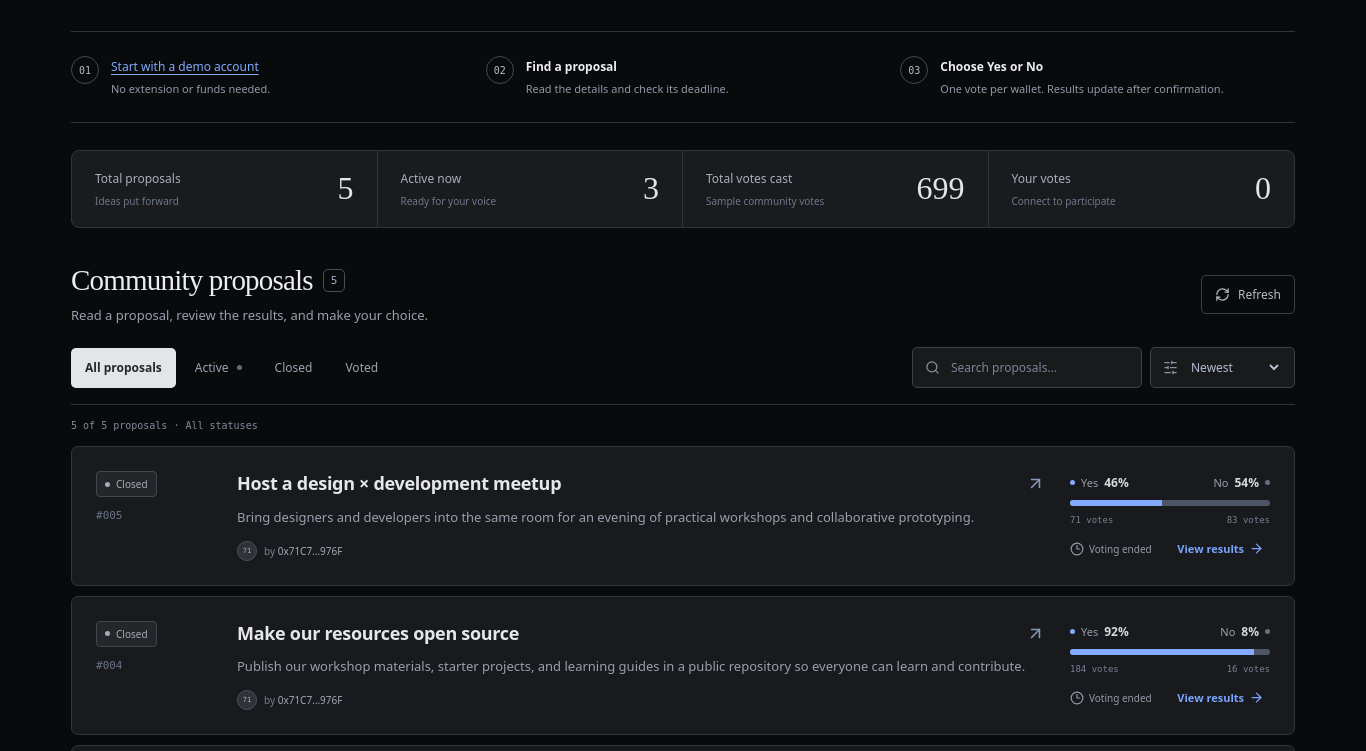
Scenario: dVote user flows › searches, filters closed proposals, and displays final results
(page scrolled)
In the field labelled "Search proposals": point(1039, 368) [949,358,1129,377], type "open source"
(page scrolled)
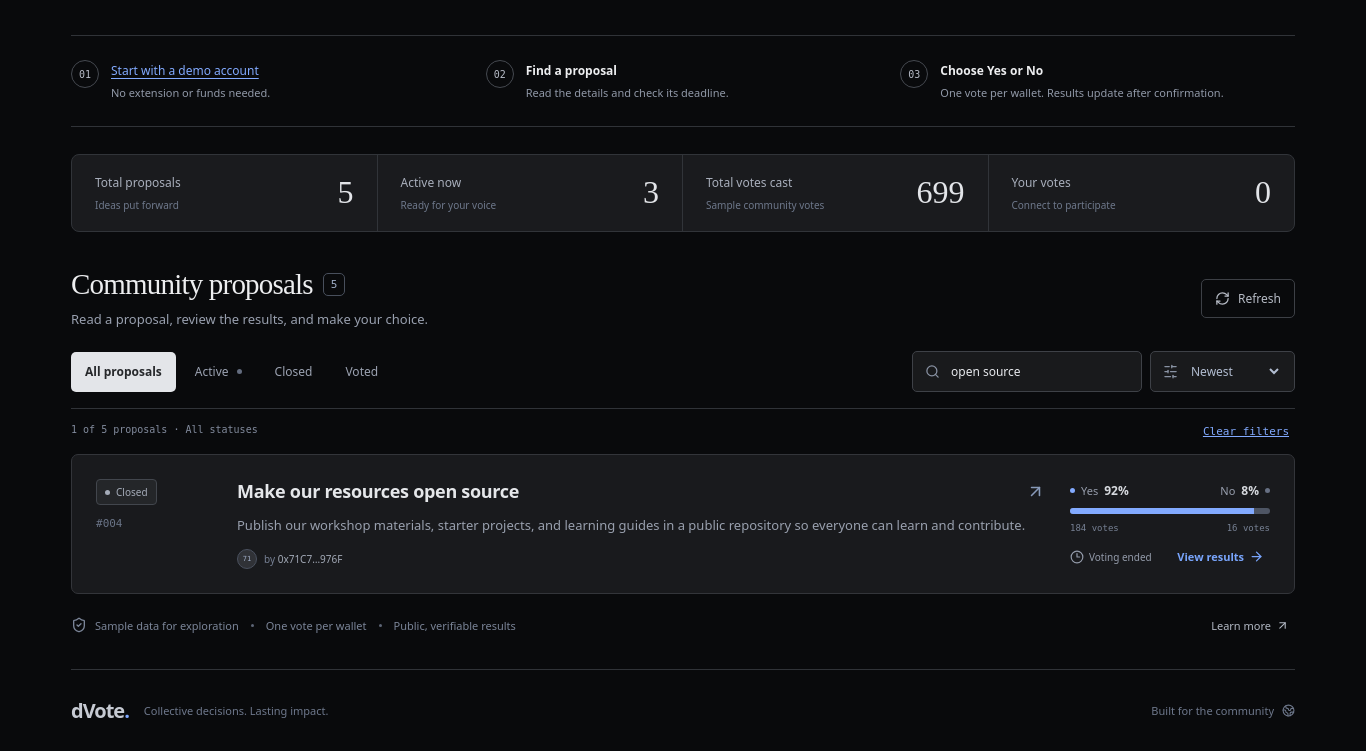
Click the button "Make our resources open source": point(378, 491) [237,479,1045,505]
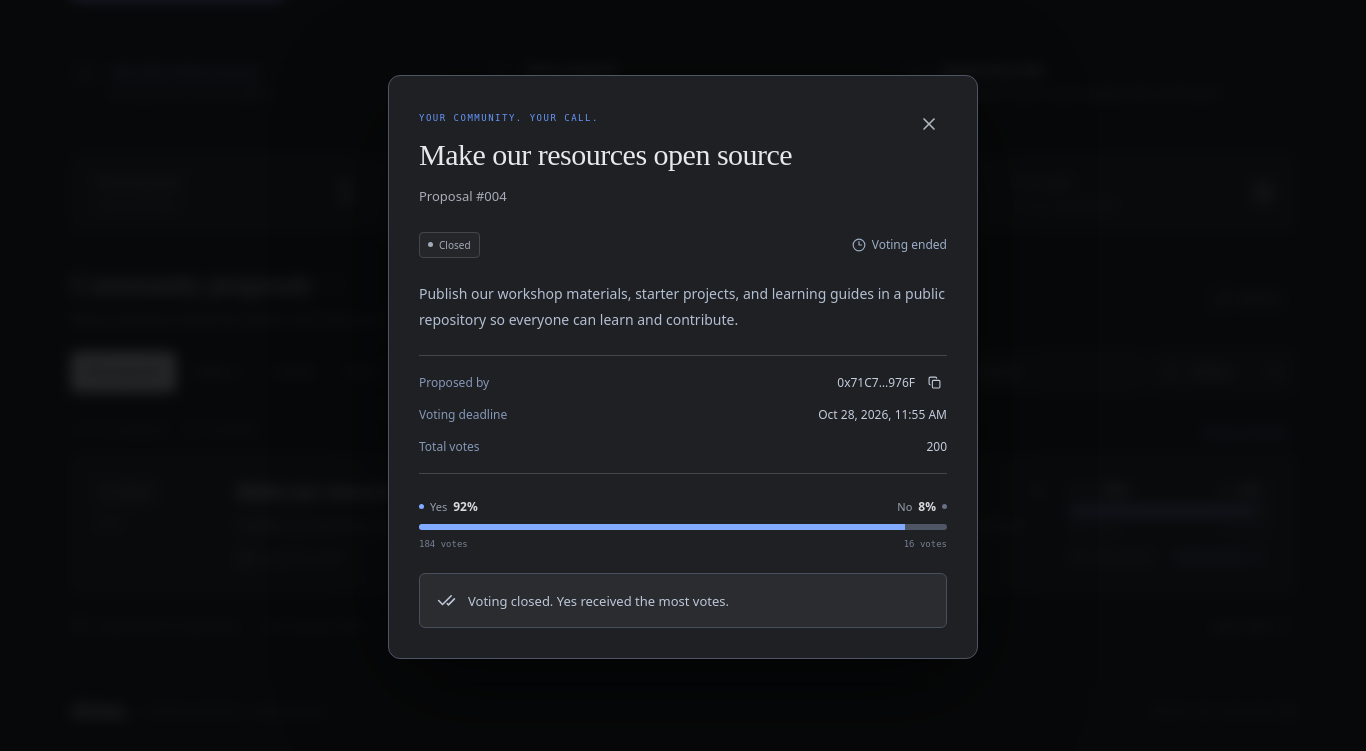
Now the text "Voting closed. Yes received the most votes." is shown, box [468,592,729,610]
Click the button named "Close dialog": point(929, 124) [911,106,947,142]
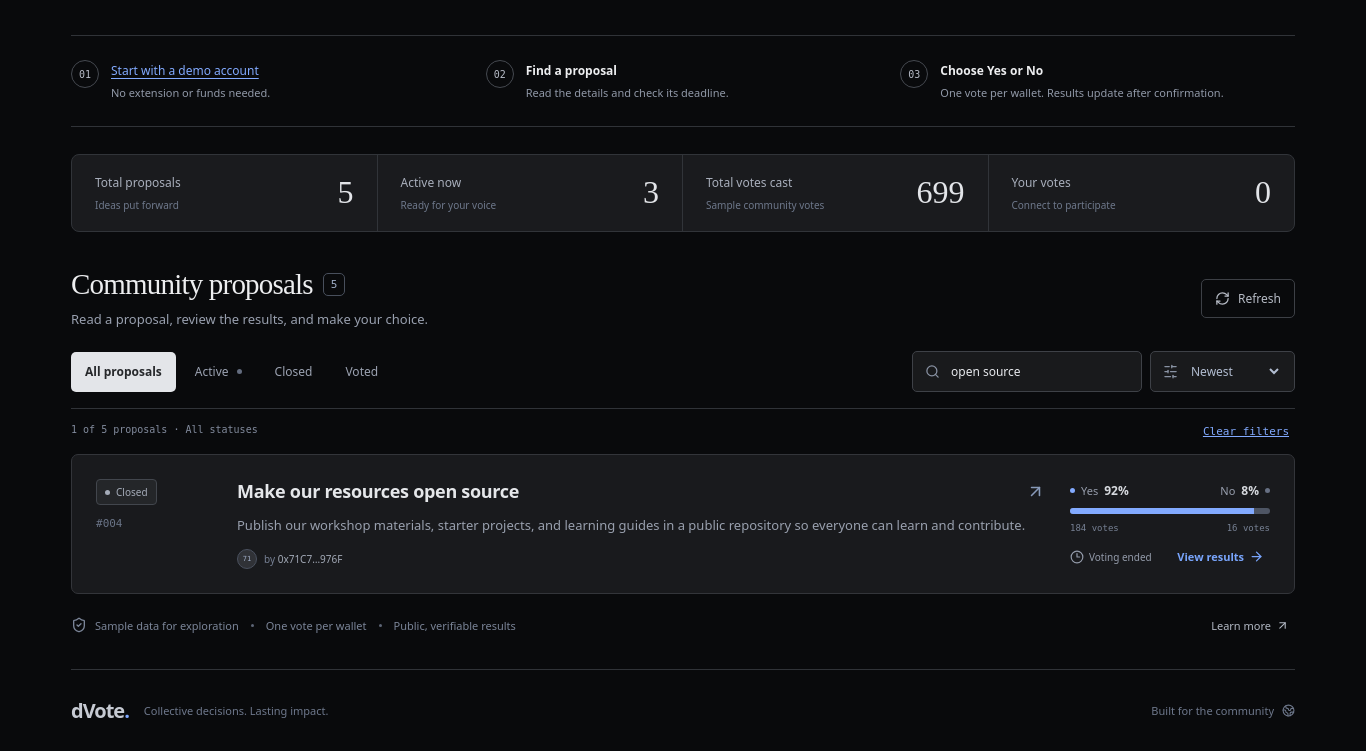
Clear the field named "Search proposals": point(1039, 372) [949,362,1129,381]
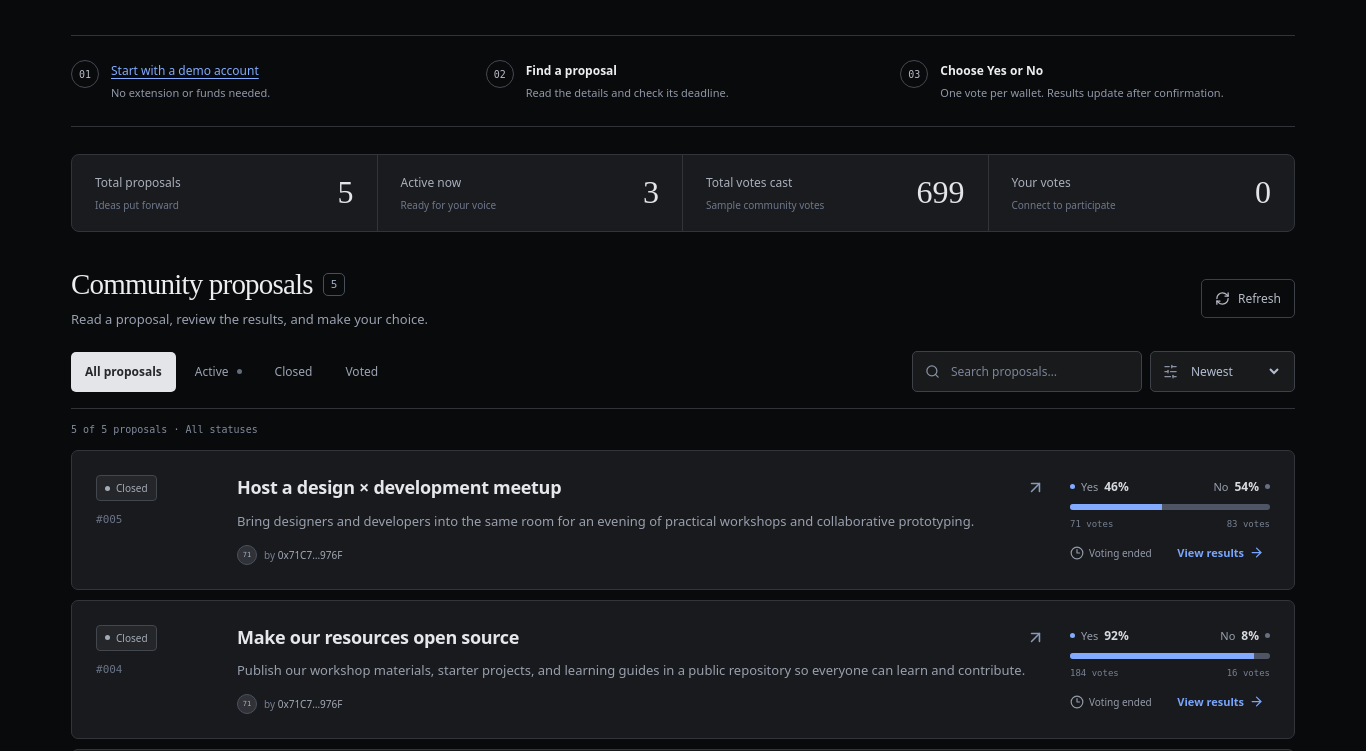
Click the button "Closed": point(294, 372) [261,352,326,392]
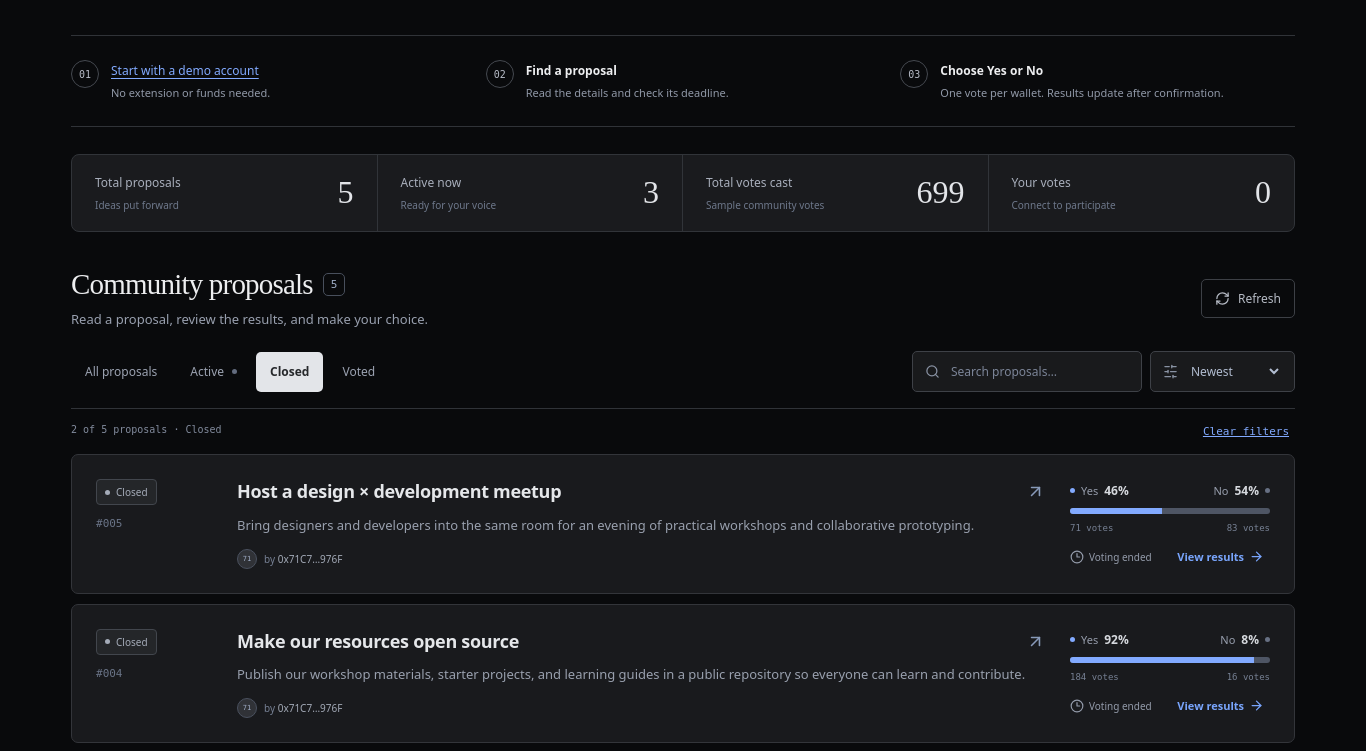
Now the number of buttons "View results" is 2, box [1171,548,1270,565]; [1171,698,1270,714]
